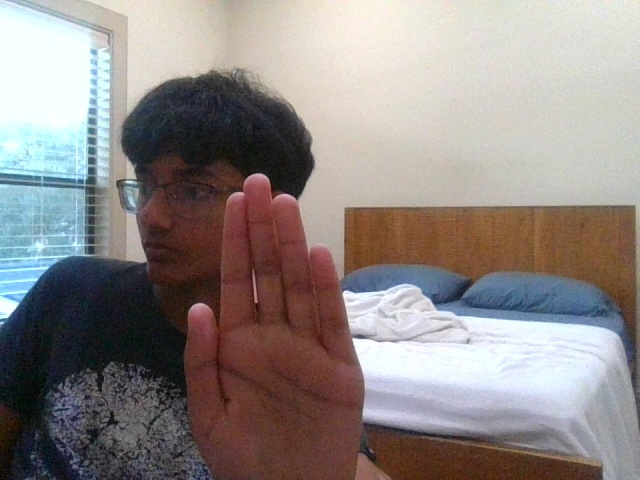hello: (185, 173, 365, 477)
